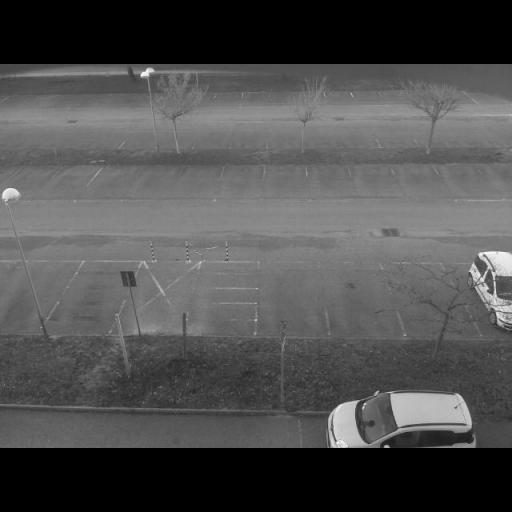busy: (330, 389, 486, 448), (472, 250, 509, 328)
free: (386, 262, 466, 342), (324, 263, 394, 340), (260, 261, 327, 336), (5, 258, 59, 337), (64, 264, 122, 328), (432, 156, 490, 199), (390, 162, 440, 200), (193, 122, 233, 152), (336, 124, 382, 150), (230, 123, 268, 154), (352, 165, 395, 192), (373, 125, 419, 150), (140, 165, 177, 193), (466, 86, 507, 109), (416, 122, 446, 153), (454, 123, 486, 149), (210, 87, 244, 110), (350, 85, 386, 105), (226, 169, 260, 188), (271, 168, 305, 186), (121, 136, 156, 152), (322, 86, 353, 104), (314, 167, 348, 183), (186, 168, 220, 184), (241, 89, 268, 108), (85, 139, 120, 152), (105, 170, 137, 184), (110, 90, 136, 107), (26, 169, 54, 181), (66, 171, 92, 183)
